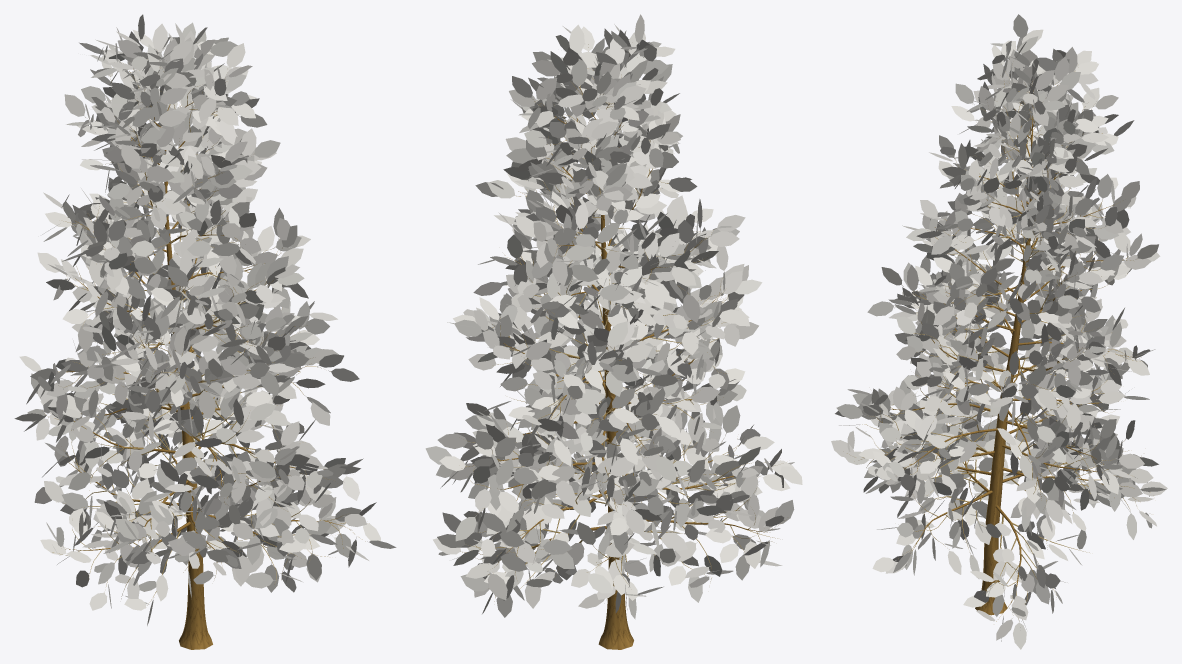
The model's file is tree_meiboku.glb.
3 views of the same model, side by side, from view 1: azimuth 30°, elevation 25°; view 2: azimuth 150°, elevation 25°; view 3: azimuth 270°, elevation 25° (orthographic). The views are drawn at different scales.
Visible parts, largest first — view 1: Leaves, Branches2, Trunk, Branches1; view 2: Leaves, Branches2, Trunk, Branches1; view 3: Leaves, Branches2, Branches1, Trunk.
Boxes of the visible parts, x1=… form: Leaves: x1=14, y1=14, x2=396, y2=625; Branches2: x1=45, y1=70, x2=365, y2=605; Trunk: x1=164, y1=150, x2=212, y2=649; Branches1: x1=50, y1=69, x2=345, y2=563; Leaves: x1=425, y1=14, x2=802, y2=619; Branches2: x1=460, y1=44, x2=778, y2=601; Trunk: x1=598, y1=215, x2=633, y2=649; Branches1: x1=469, y1=70, x2=767, y2=564; Leaves: x1=831, y1=14, x2=1167, y2=649; Branches2: x1=847, y1=71, x2=1150, y2=621; Branches1: x1=861, y1=81, x2=1135, y2=608; Trunk: x1=975, y1=115, x2=1032, y2=615.
Size of the model in its own units: 4.55 by 8.5 by 4.5.
3 materials, 1 textured.
